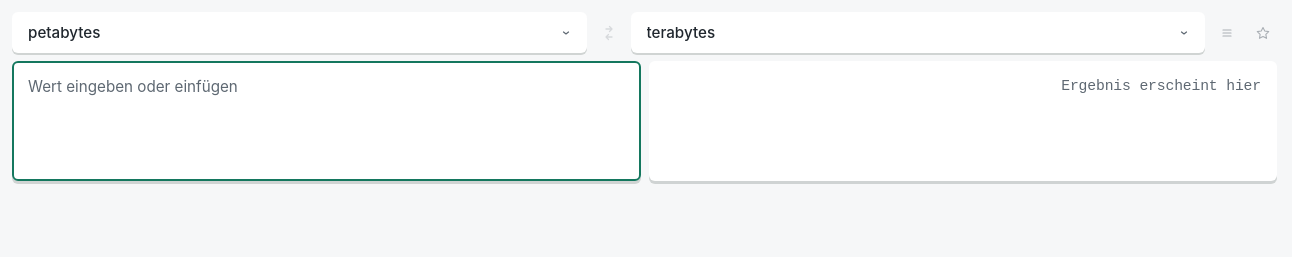
Test: never resolves unaudited pair petabytes to terabytes in batch=false
In the text box named "Eingabetext": (326, 121) x1=12 y1=61 x2=640 y2=181, type "private raw state"
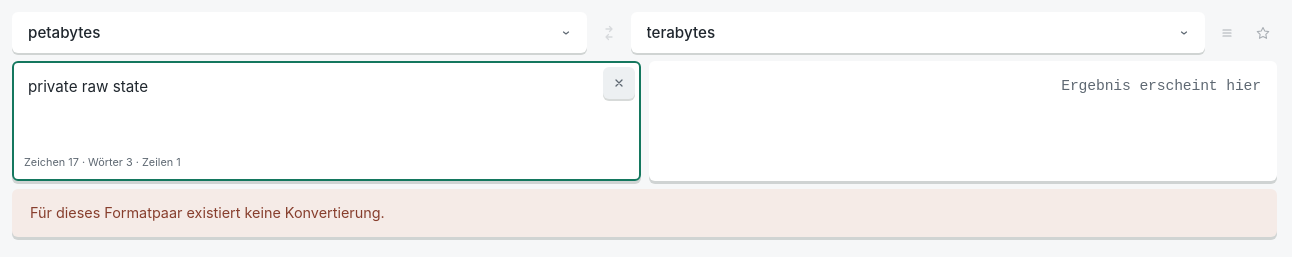
Check: the message does not show "private raw state", box x1=12 y1=189 x2=1277 y2=237
Check: the message reads "Für dieses Formatpaar existiert keine Konvertierung.", box x1=30 y1=204 x2=385 y2=221
